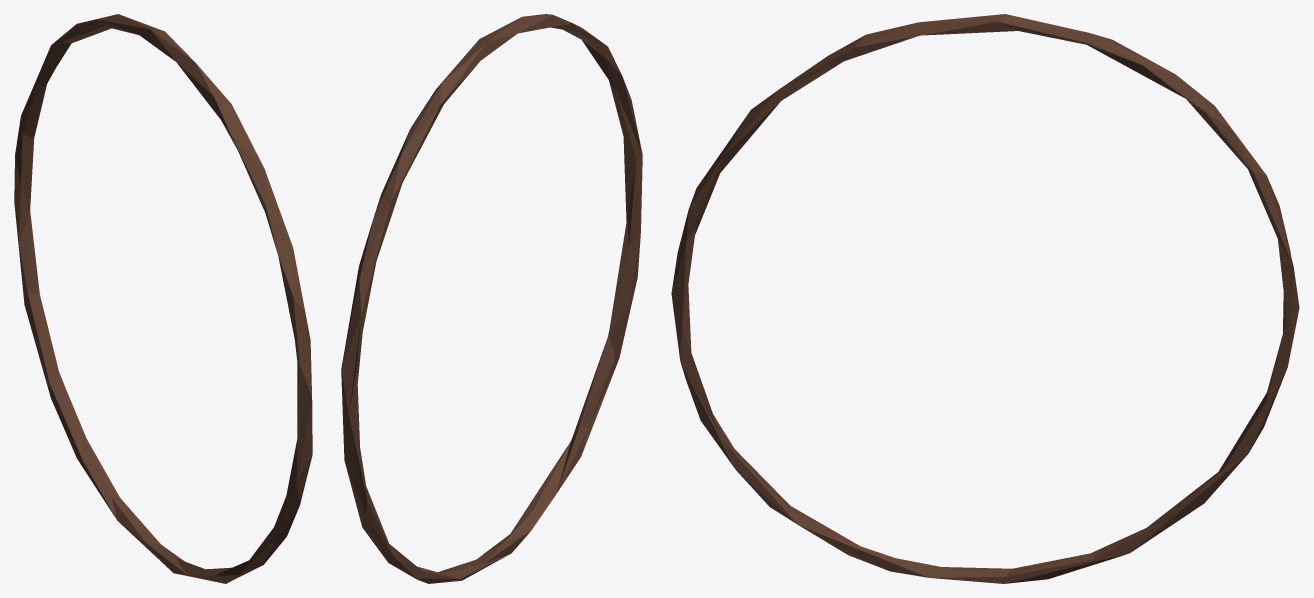
The model's file is flower-6.fbx.
The picture shows the model from 3 angles, left to right: view 1: azimuth 30°, elevation 25°; view 2: azimuth 150°, elevation 25°; view 3: azimuth 270°, elevation 25°; orthographic projection. The views are drawn at different scales.
Visible parts, largest first — view 1: 실린더.001; view 2: 실린더.001; view 3: 실린더.001.
Boxes of the visible parts, x1=… form: 실린더.001: x1=14, y1=14, x2=312, y2=583; 실린더.001: x1=341, y1=14, x2=642, y2=583; 실린더.001: x1=671, y1=14, x2=1299, y2=583.
Bounding box in the file's own units: 60.35 × 1904 × 1913.
